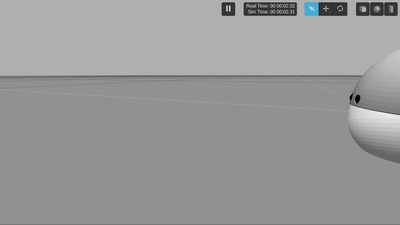mira_robot: (348, 47, 400, 165)
